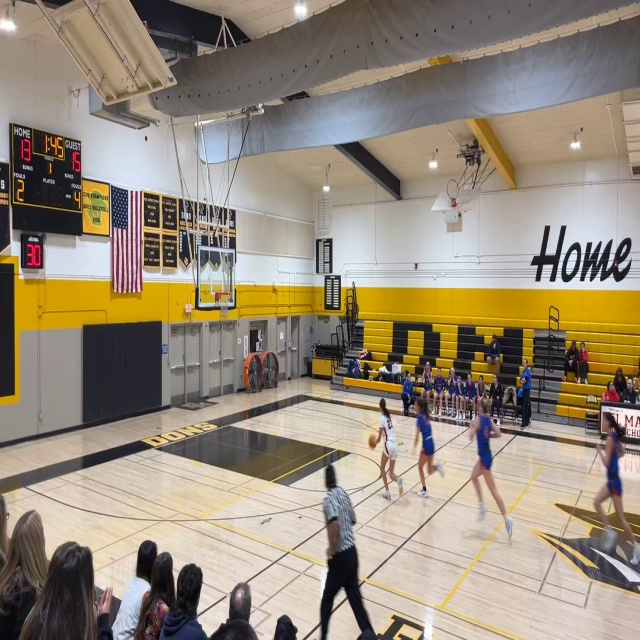Basketball: (368, 432, 379, 448)
